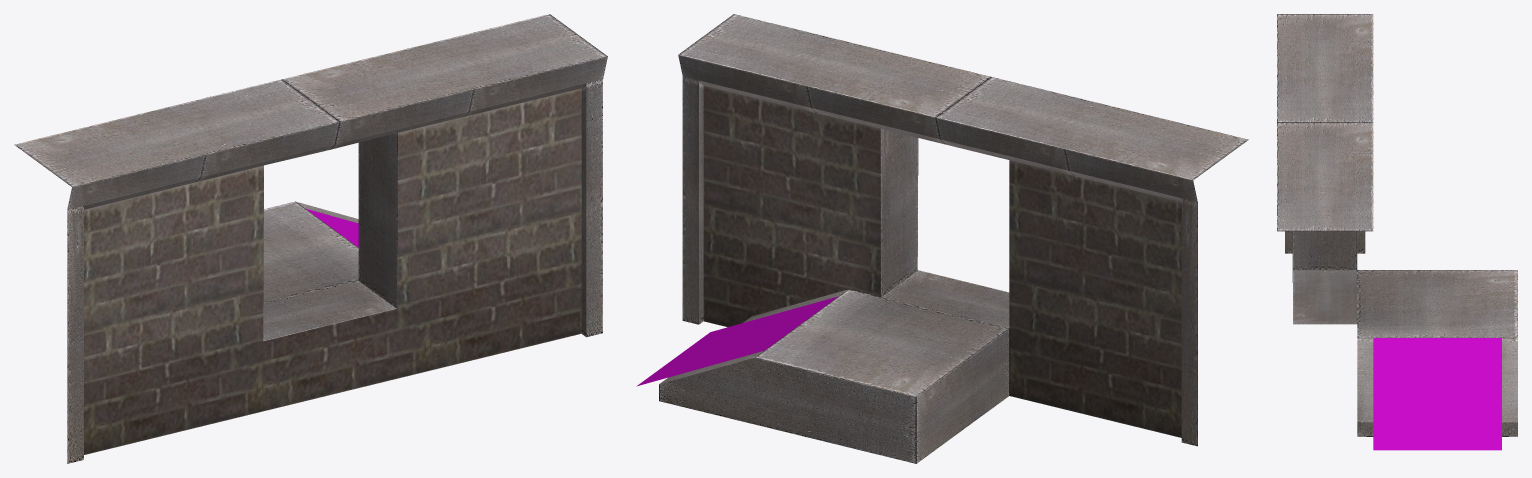
The model's file is M10_Zone2_Wall1_Entry.glb.
3 views of the same model, side by side, from view 1: azimuth 30°, elevation 25°; view 2: azimuth 150°, elevation 25°; view 3: azimuth 270°, elevation 25° (orthographic). The views are drawn at different scales.
Parts seen in each view (by area): view 1: M10_ZONE2_WALL1_ENTRY; view 2: M10_ZONE2_WALL1_ENTRY; view 3: M10_ZONE2_WALL1_ENTRY.
Boxes of the visible parts, left/top/right/bottom form: M10_ZONE2_WALL1_ENTRY: left=14, top=14, right=607, bottom=463; M10_ZONE2_WALL1_ENTRY: left=636, top=14, right=1248, bottom=463; M10_ZONE2_WALL1_ENTRY: left=1277, top=14, right=1517, bottom=450.
Size of the model in its own units: 8 by 4 by 3.75.
Materials: 3 (2 with a texture image).
